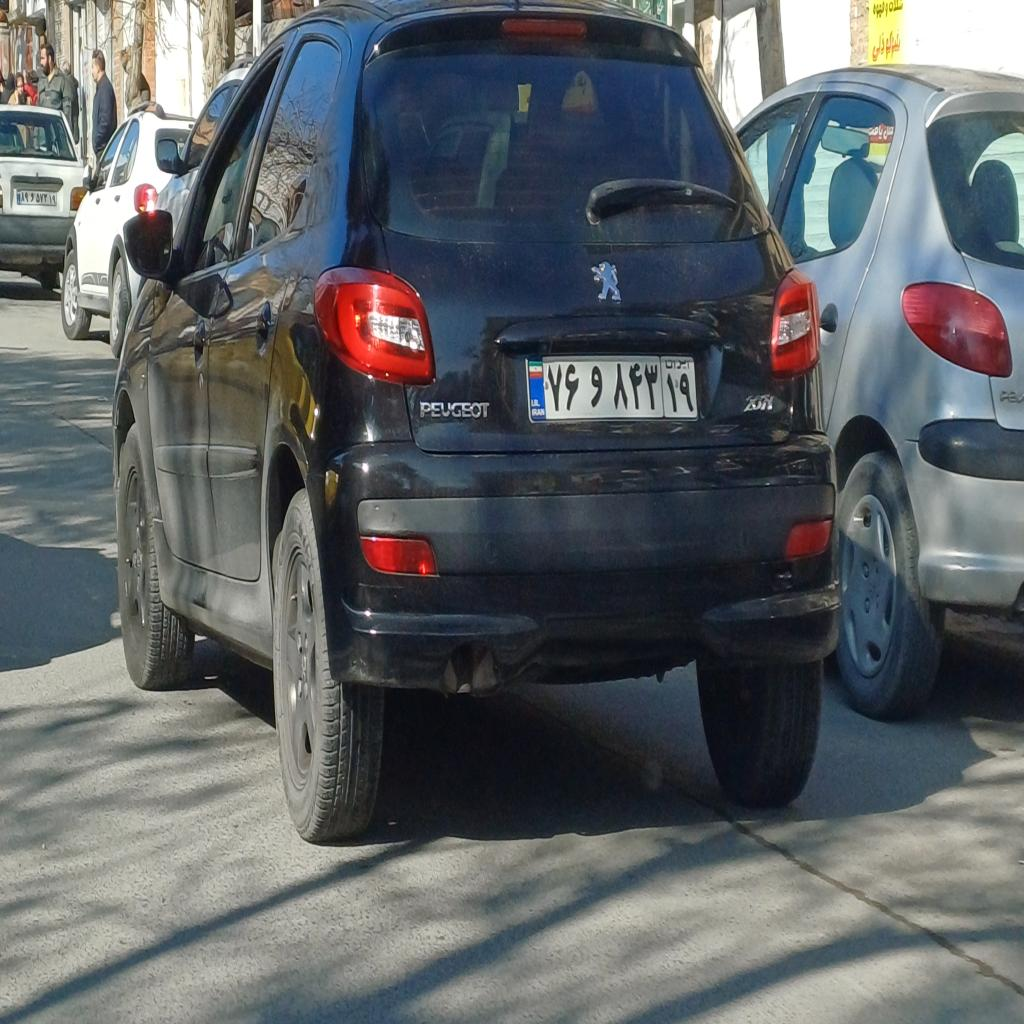Plates: (527, 351, 698, 421)
